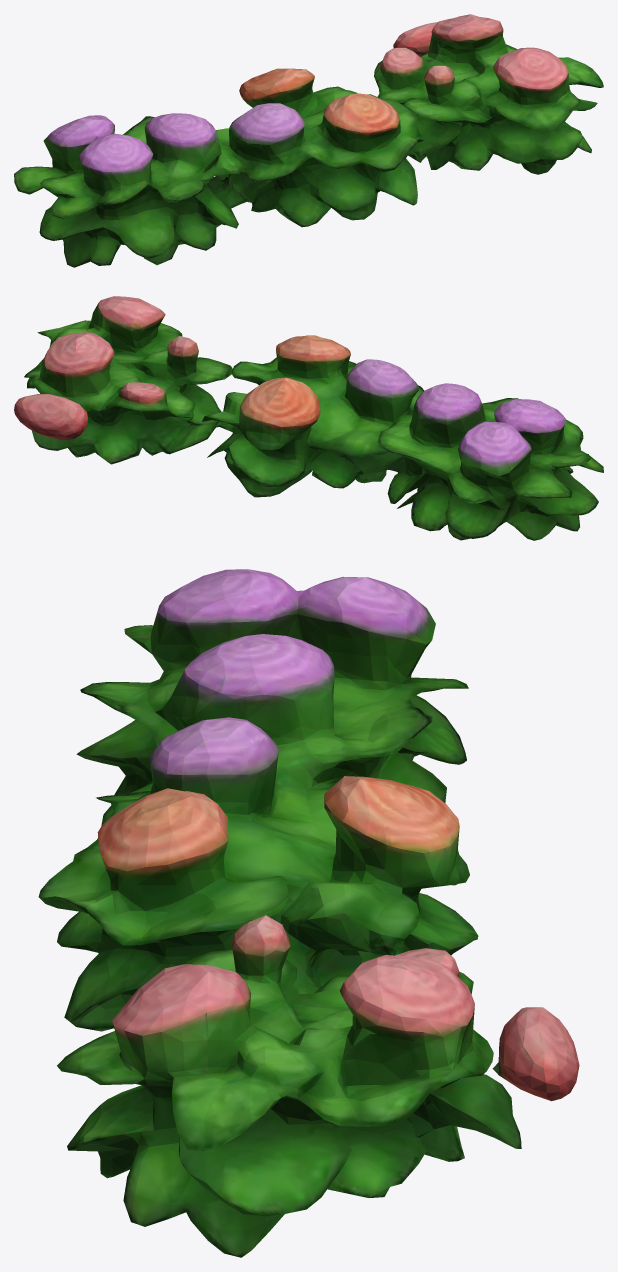
The model's file is flowers_wild.glb.
3 views of the same model, one above another, from view 1: azimuth 30°, elevation 25°; view 2: azimuth 150°, elevation 25°; view 3: azimuth 270°, elevation 25° (orthographic). The views are drawn at different scales.
Parts seen in each view (by area): view 1: world; view 2: world; view 3: world.
Boxes of the visible parts, <box> form: world: <box>14,14,603,267</box>; world: <box>14,296,603,540</box>; world: <box>38,569,579,1257</box>.
Bounding box in the file's own units: 0.997 × 0.2005 × 0.4242.
1 material, 1 textured.
